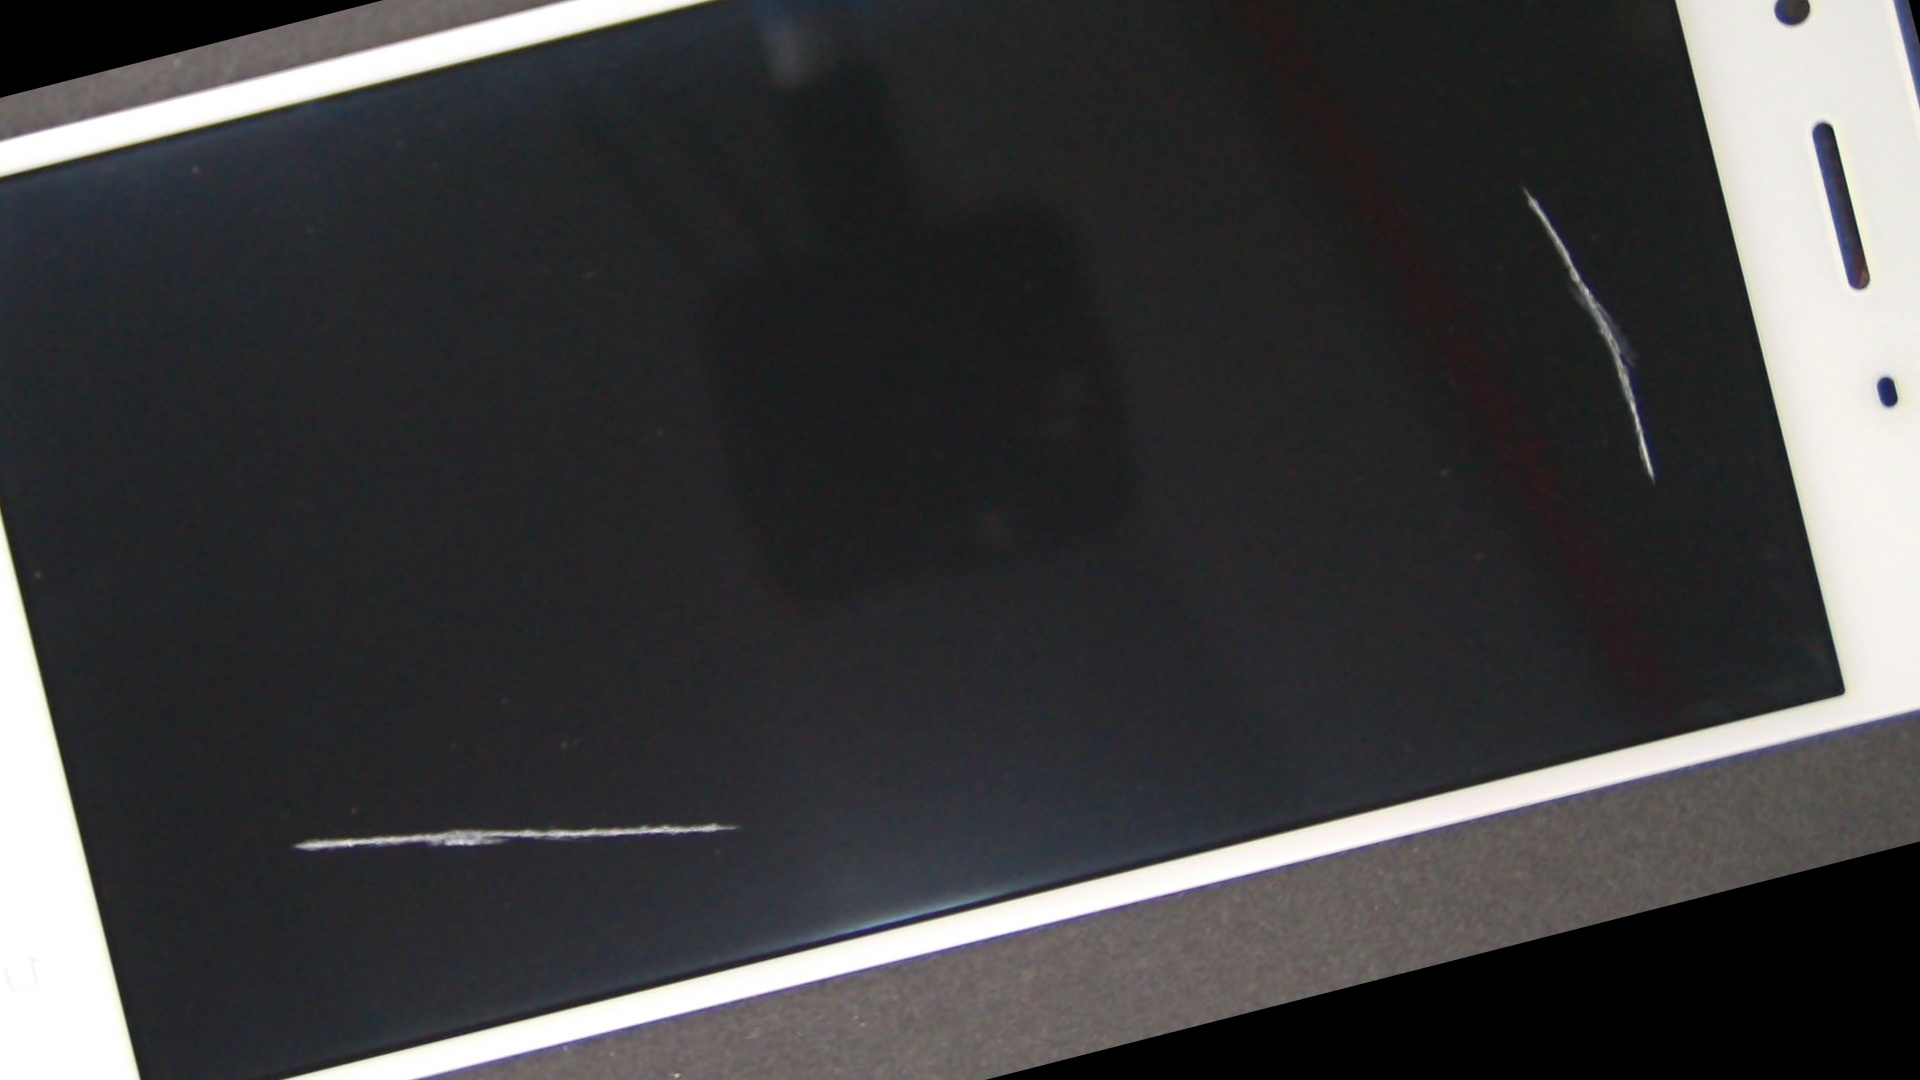oil: (596, 0, 1920, 633), (0, 401, 612, 1080)
